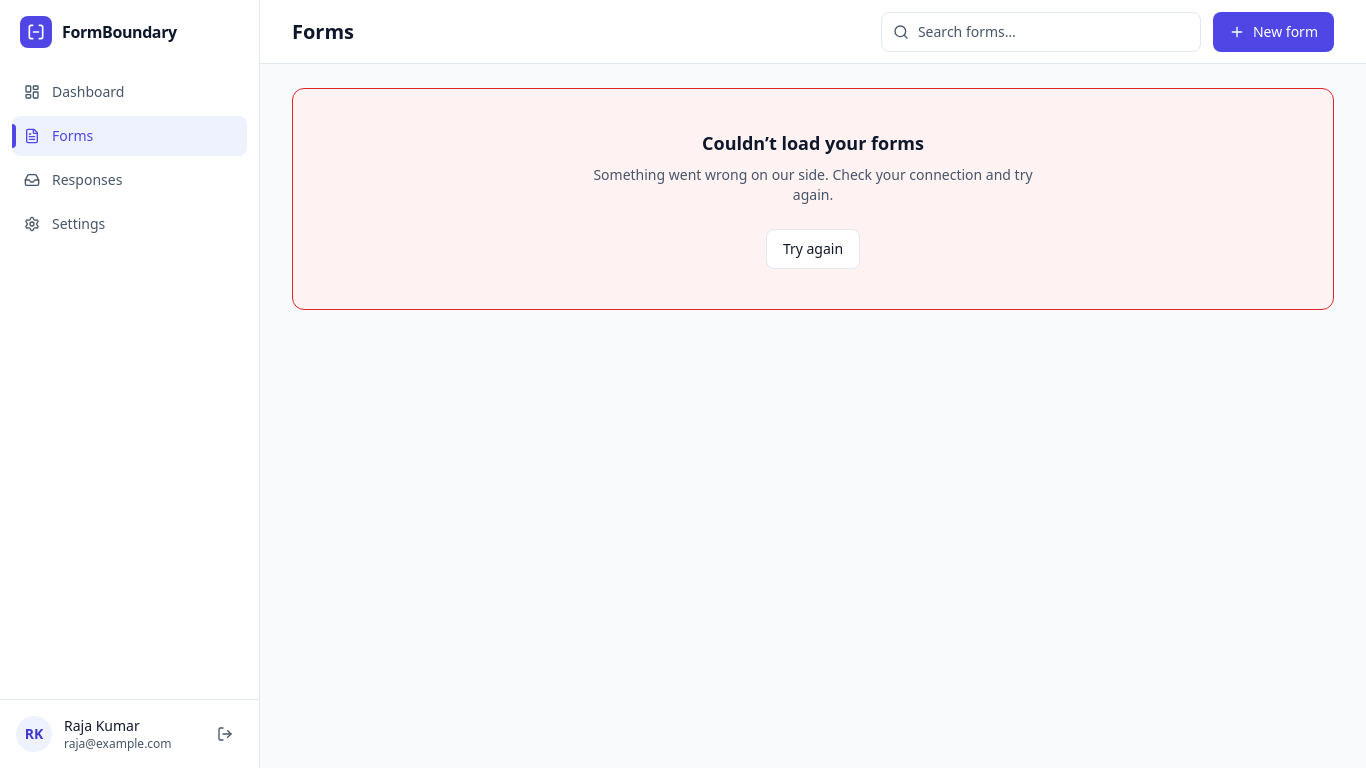
Test case: forms screen › shows the error state with a retry that restores the list
Expected: the message shows "Couldn’t load your forms", [702,131,924,155]
Click the button "Try again": (813, 249) [766,229,860,269]
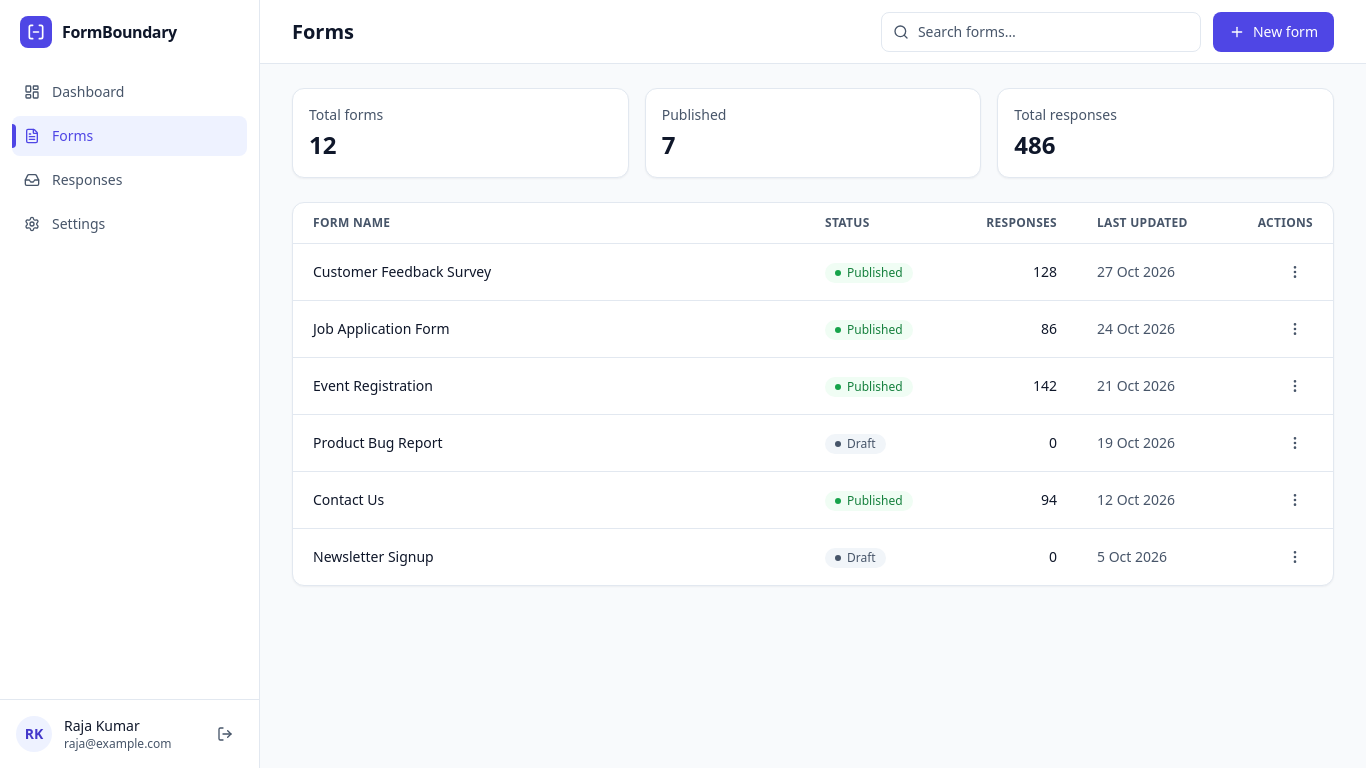
Now the table is shown, box [293,203,1333,585]
